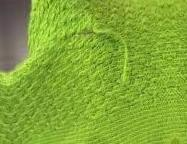snag: (88, 22, 139, 89)
